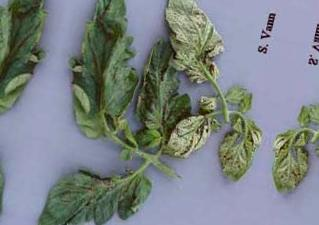Tomato leaf bacterial spot: (53, 0, 165, 151), (39, 151, 151, 225), (148, 0, 236, 84), (163, 104, 222, 168)
